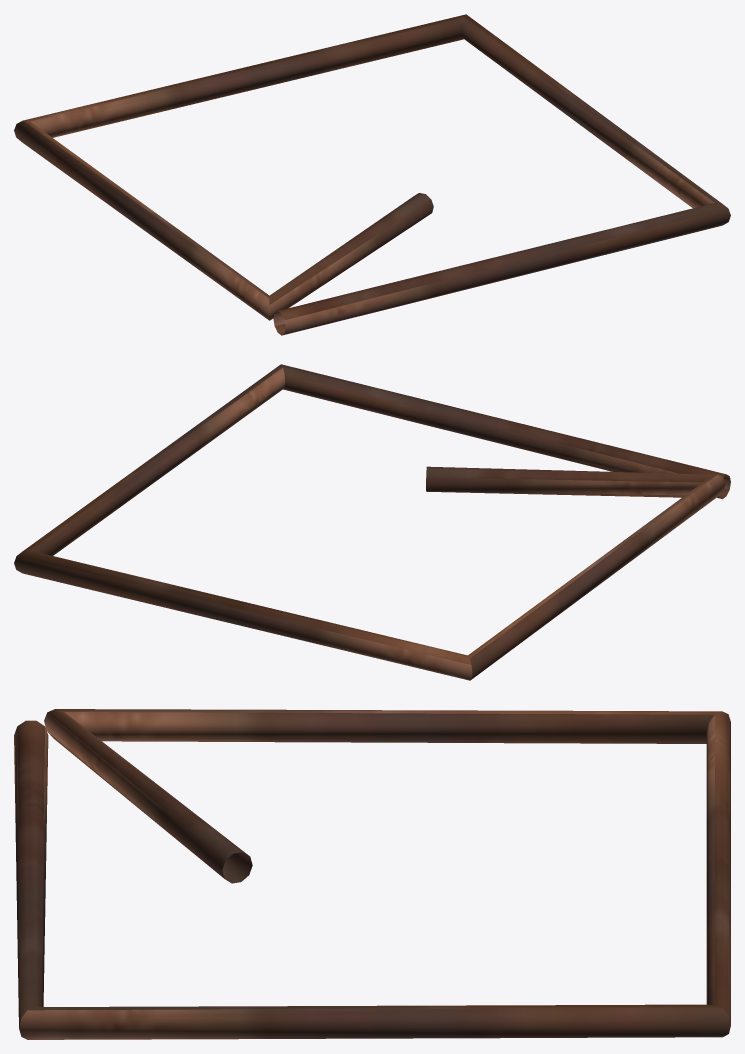
Rendered from EST-ARM-001_lod1.glb.
3 renders of one model, top to bottom at view 1: azimuth 30°, elevation 25°; view 2: azimuth 150°, elevation 25°; view 3: azimuth 270°, elevation 25°, orthographic. The views are drawn at different scales.
Parts seen in each view (by area): view 1: Estribo 10x10 Ø5; view 2: Estribo 10x10 Ø5; view 3: Estribo 10x10 Ø5.
Boxes of the visible parts, x1=… form: Estribo 10x10 Ø5: x1=14, y1=14, x2=730, y2=335; Estribo 10x10 Ø5: x1=14, y1=364, x2=730, y2=680; Estribo 10x10 Ø5: x1=14, y1=709, x2=730, y2=1039.
Size of the model in its own units: 0.1035 by 0.00688 by 0.1043.
1 material, 1 textured.
